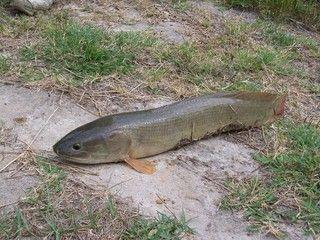Mudfish: (53, 84, 285, 174)
